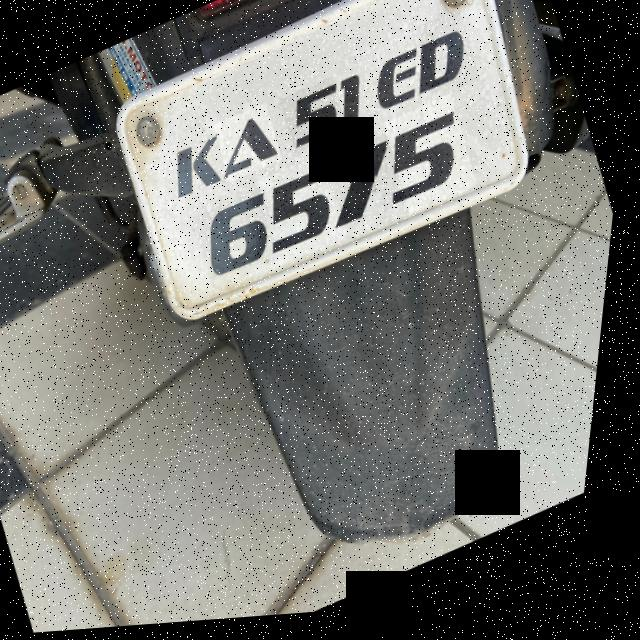5: (379, 98, 490, 224), (253, 156, 361, 272), (277, 80, 355, 160)
6: (192, 188, 298, 295)
7: (320, 137, 419, 238)
A: (212, 106, 291, 189)
D: (406, 13, 489, 110)
E: (358, 35, 443, 123)
K: (162, 129, 242, 216)
